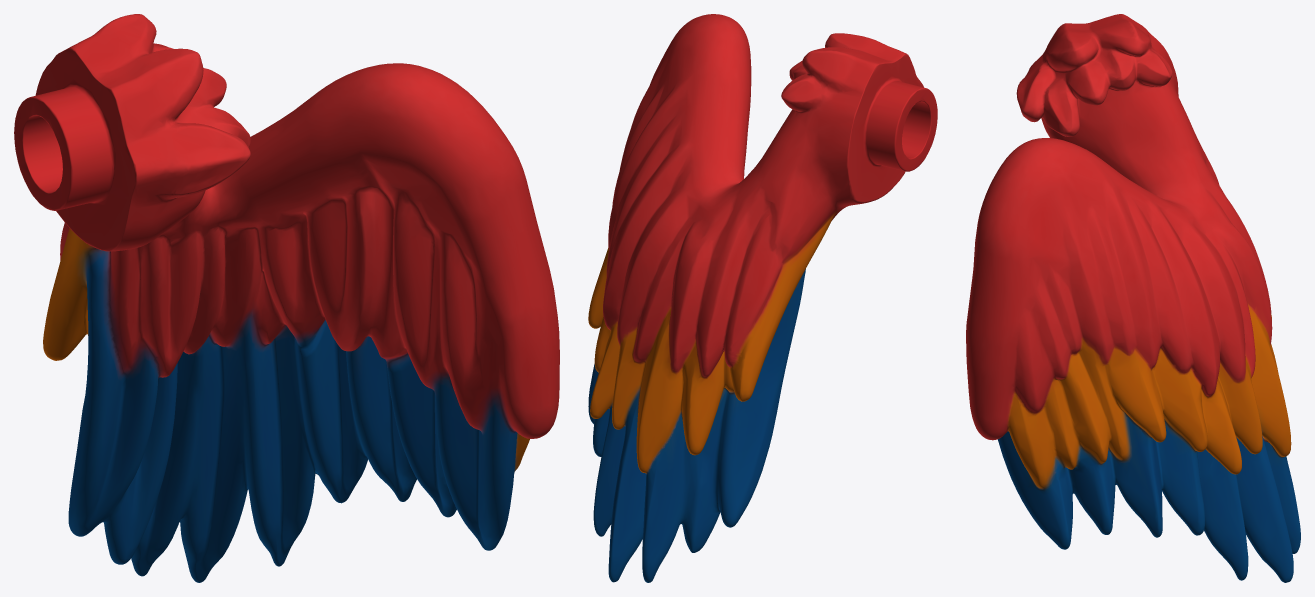
Rendered from Bras_Perroquet_lft.glb.
3 renders of one model, left to right at view 1: azimuth 30°, elevation 25°; view 2: azimuth 150°, elevation 25°; view 3: azimuth 270°, elevation 25°, orthographic. The views are drawn at different scales.
Parts seen in each view (by area): view 1: Bras_Perroquet_lft; view 2: Bras_Perroquet_lft; view 3: Bras_Perroquet_lft.
Part boxes in pixels (x1,y1,x2,y2): Bras_Perroquet_lft: [14, 14, 559, 582]; Bras_Perroquet_lft: [588, 14, 937, 582]; Bras_Perroquet_lft: [966, 14, 1300, 582].
Bounding box in the file's own units: 3.74 × 5.57 × 3.43.
